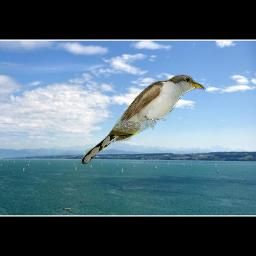Cuckoo: (79, 73, 207, 165)
